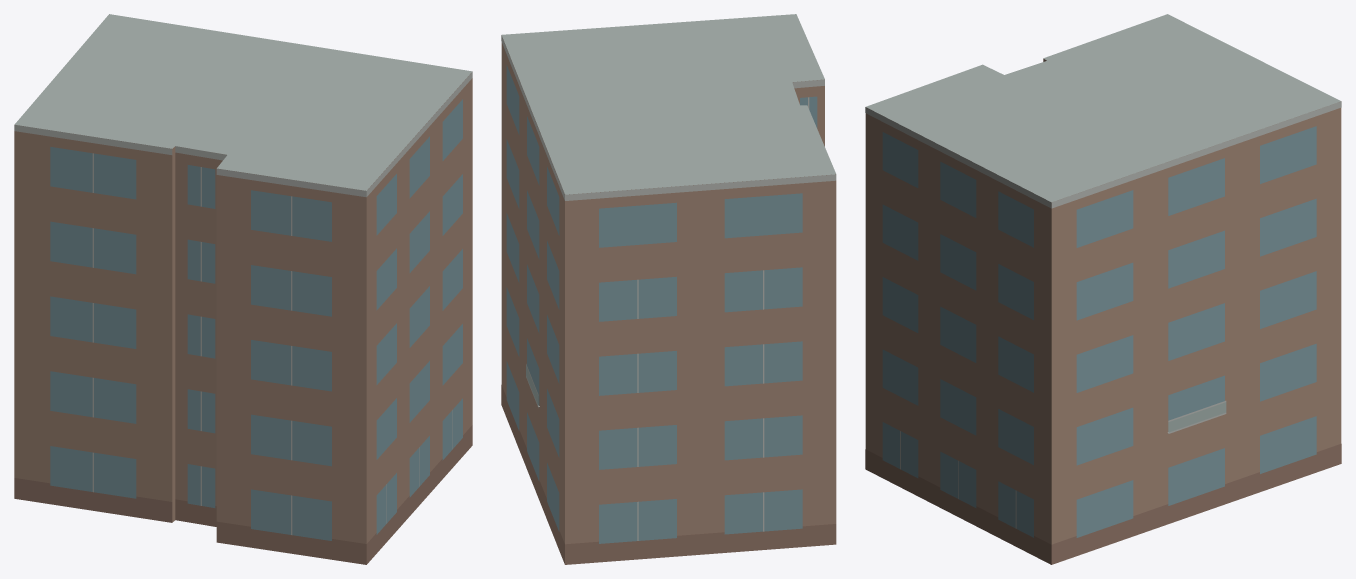
File: survey-upis-32922192.glb
3 renders of one model, left to right at view 1: azimuth 30°, elevation 25°; view 2: azimuth 150°, elevation 25°; view 3: azimuth 270°, elevation 25°, orthographic. The views are drawn at different scales.
Parts seen in each view (by area): view 1: survey-upis-32922192.tmp; view 2: survey-upis-32922192.tmp; view 3: survey-upis-32922192.tmp.
Boxes of the visible parts, x1,y1,x2,y2 form: survey-upis-32922192.tmp: (14,14,472,564); survey-upis-32922192.tmp: (501,14,836,564); survey-upis-32922192.tmp: (865,14,1341,564).
Bounding box in the file's own units: 15.83 × 14.2 × 16.91.
